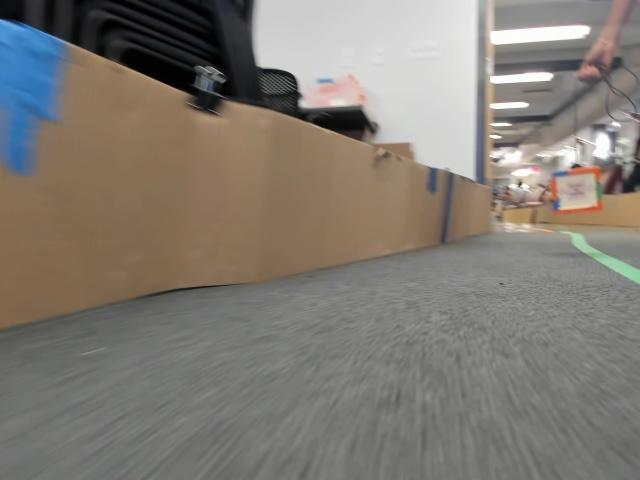Do Not Go Around: (561, 178, 593, 200)
